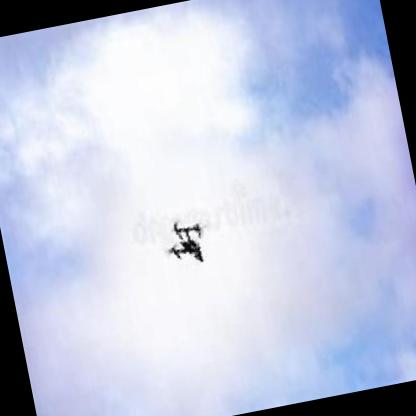drone: (154, 207, 217, 280)
